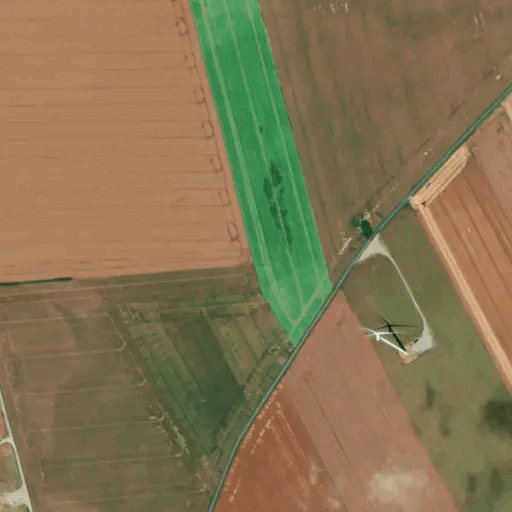wt: (354, 315, 427, 365)
